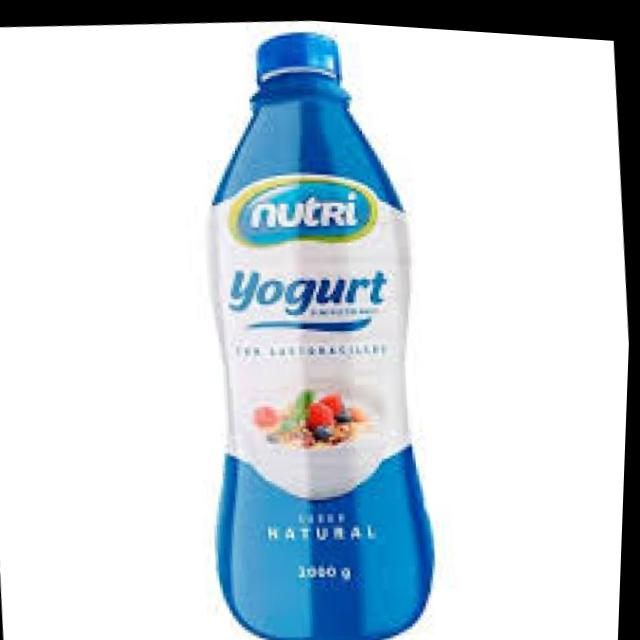Botella: (170, 14, 467, 640)
